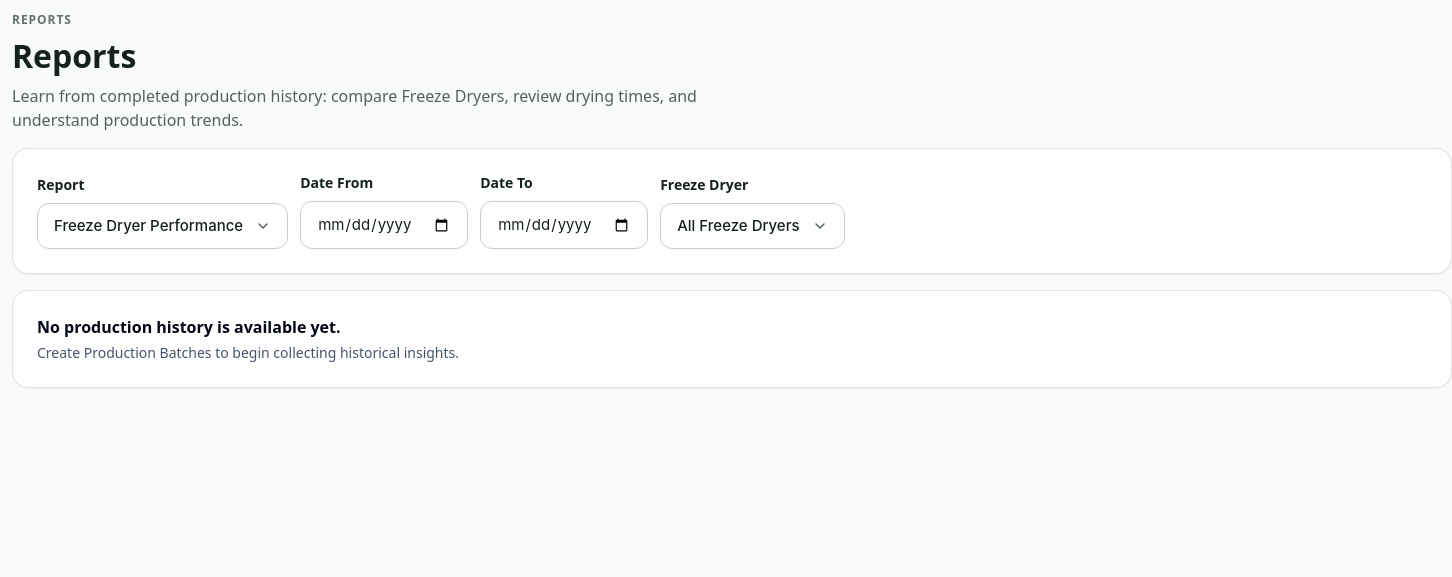
it: ReportsPage › switches to Drying Time, showing Freeze Dryer and Production Batch filters
The image size is (1452, 577).
Check: the text "No production history is available yet." is shown, box [37,316,341,338]
Step 1. Click the dropdown named "Report" → click(163, 226), box [37,203,288,249]
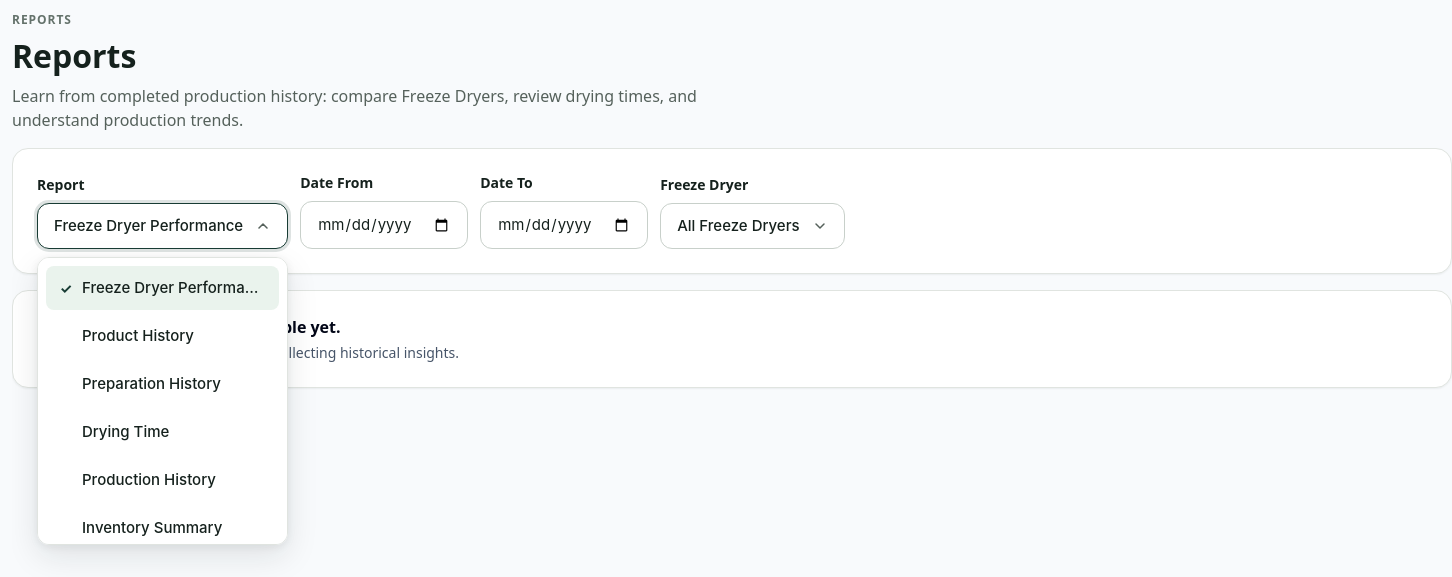
Step 2. Click the option "Drying Time" → click(163, 432), box [46,410,279,454]
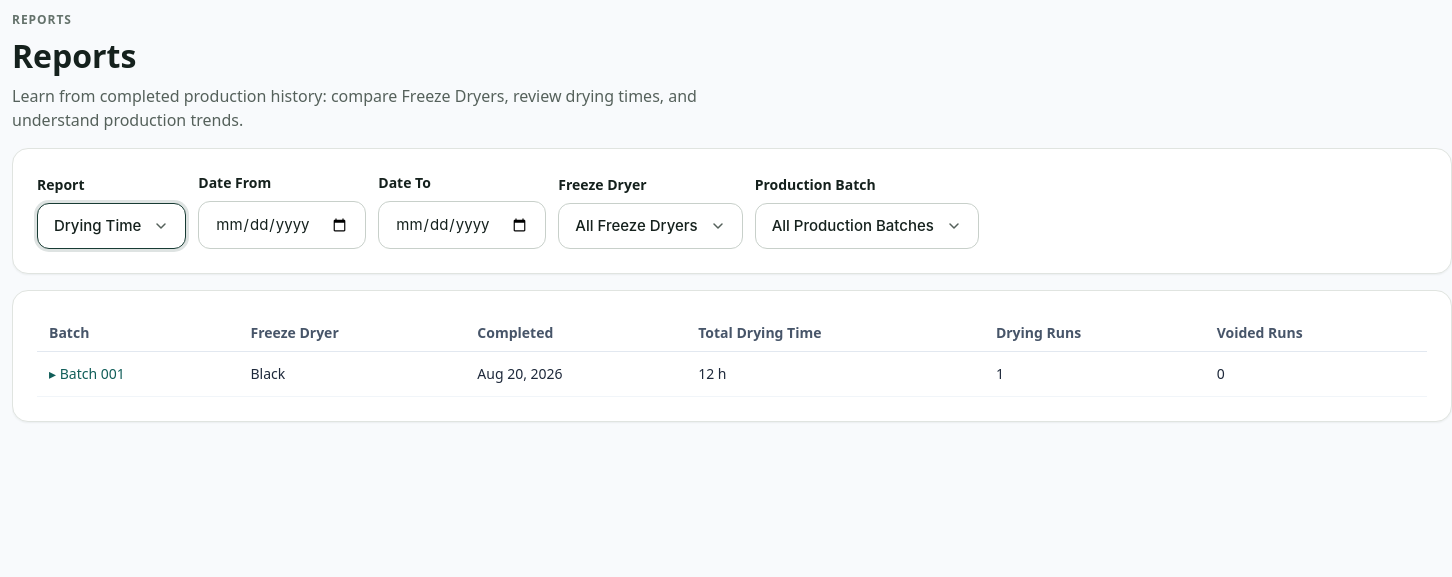
Check: the button "▸ Batch 001" is shown, box [49,364,125,384]
Check: the text "1" is shown, box [984,352,1205,396]
Check: the text "0" is shown, box [1205,352,1427,396]
